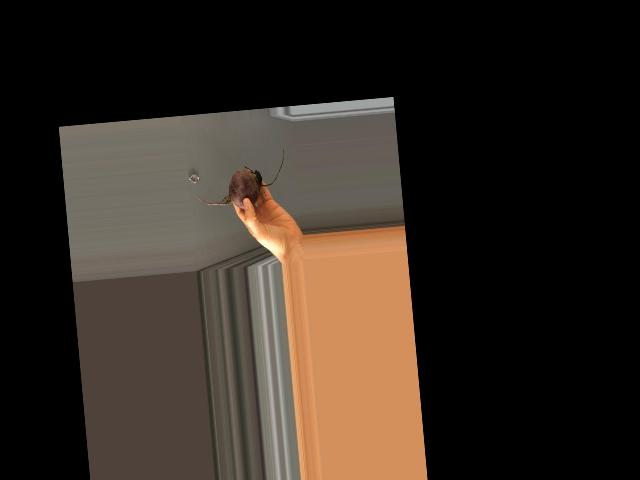beet: (193, 148, 289, 212)
